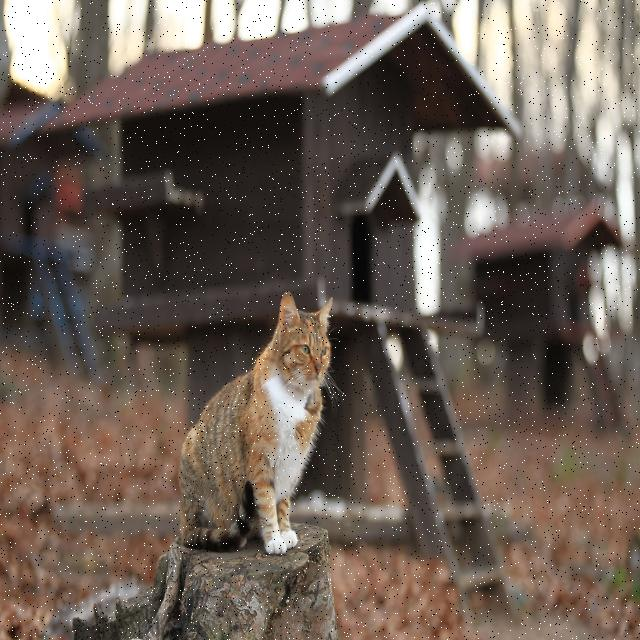cat: (179, 292, 332, 555)
